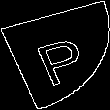P_N: (22, 25, 88, 85)
